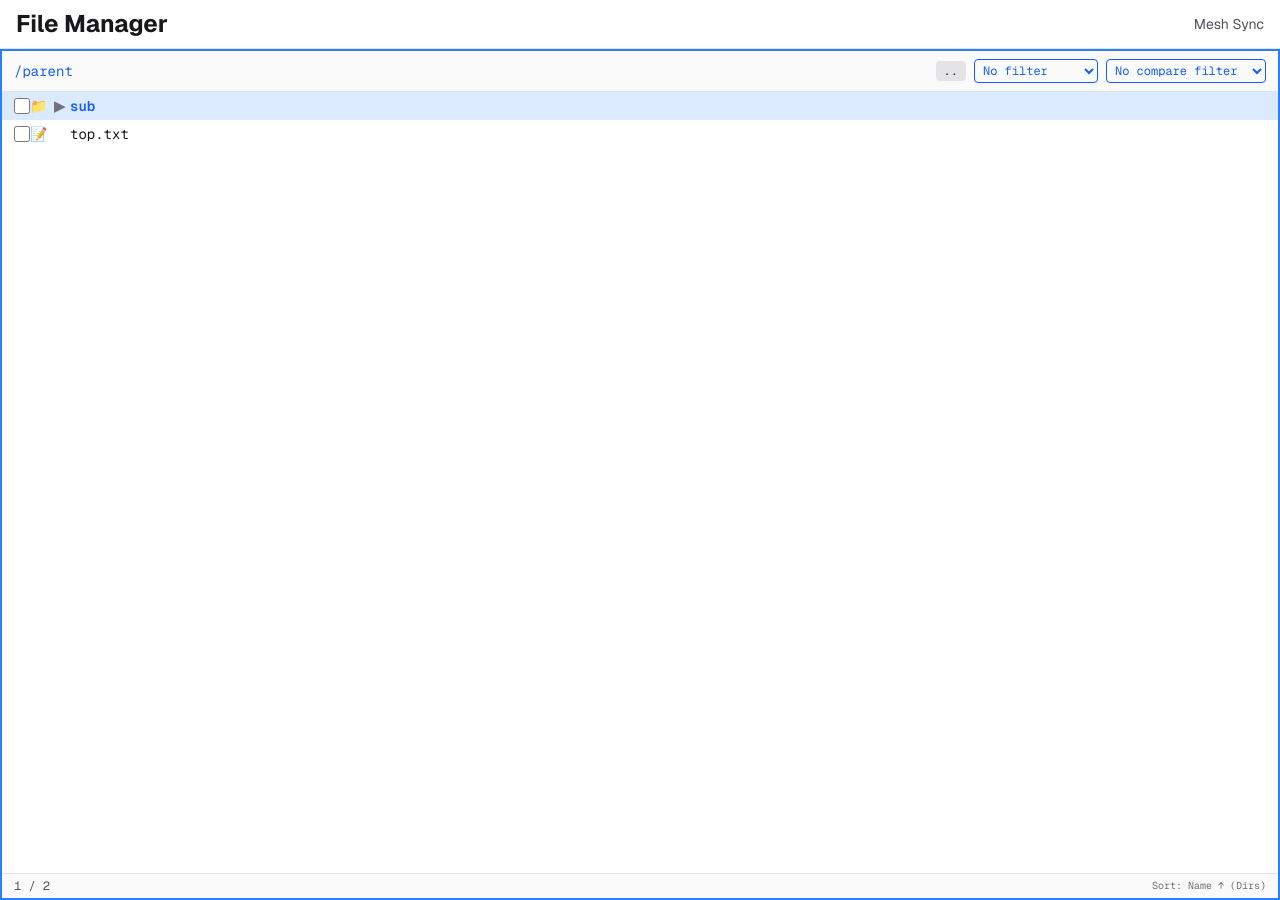
Test: [REQ-DIRECTORY_TREE] WorkspaceView directory tree › handleNavigate re-root resets tree and collapses expanded paths
Press Enter
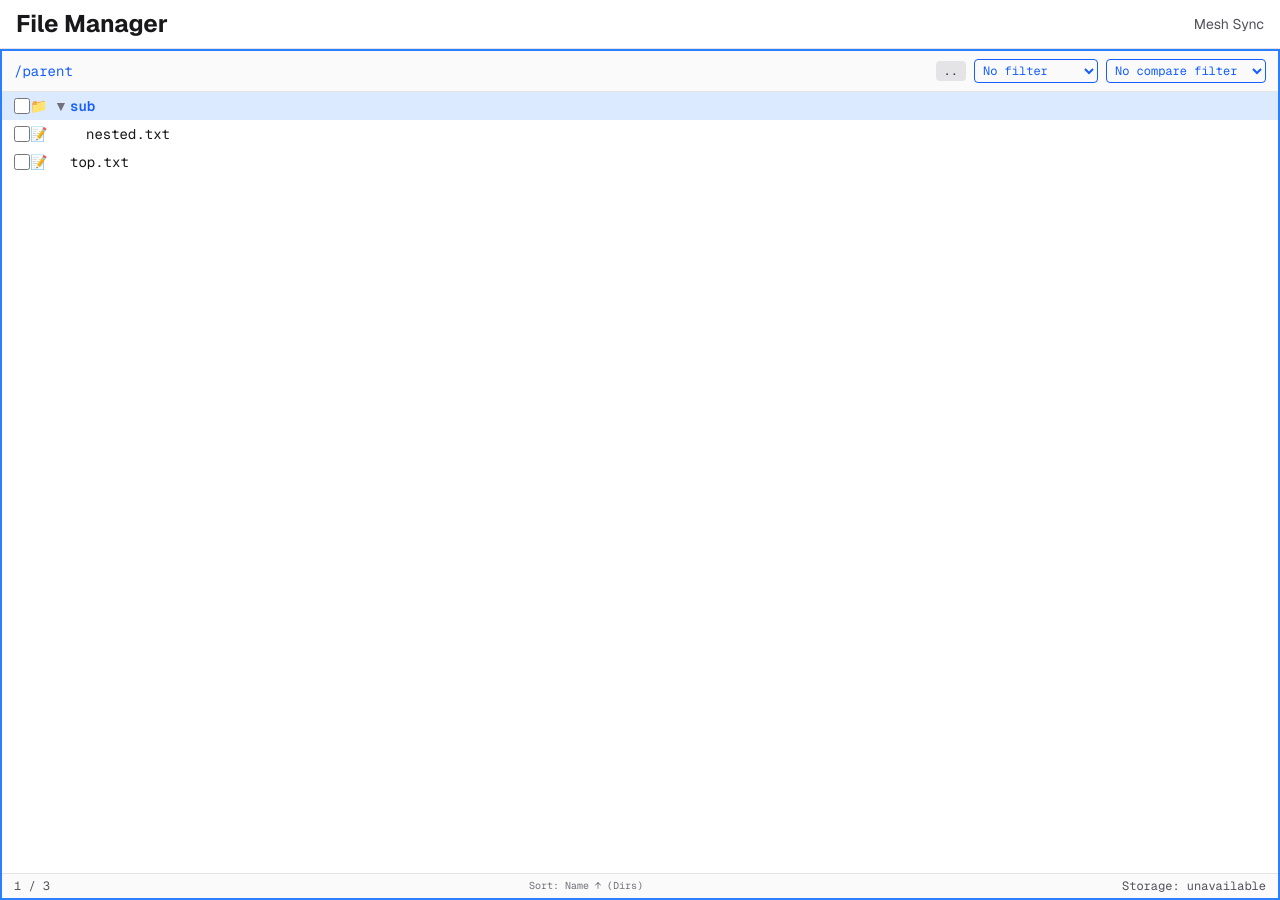
Check: the text "nested.txt" is shown, box [86,124,170,144]
Click the button named "Parent directory".
click(951, 71)  # box [936,61,966,81]
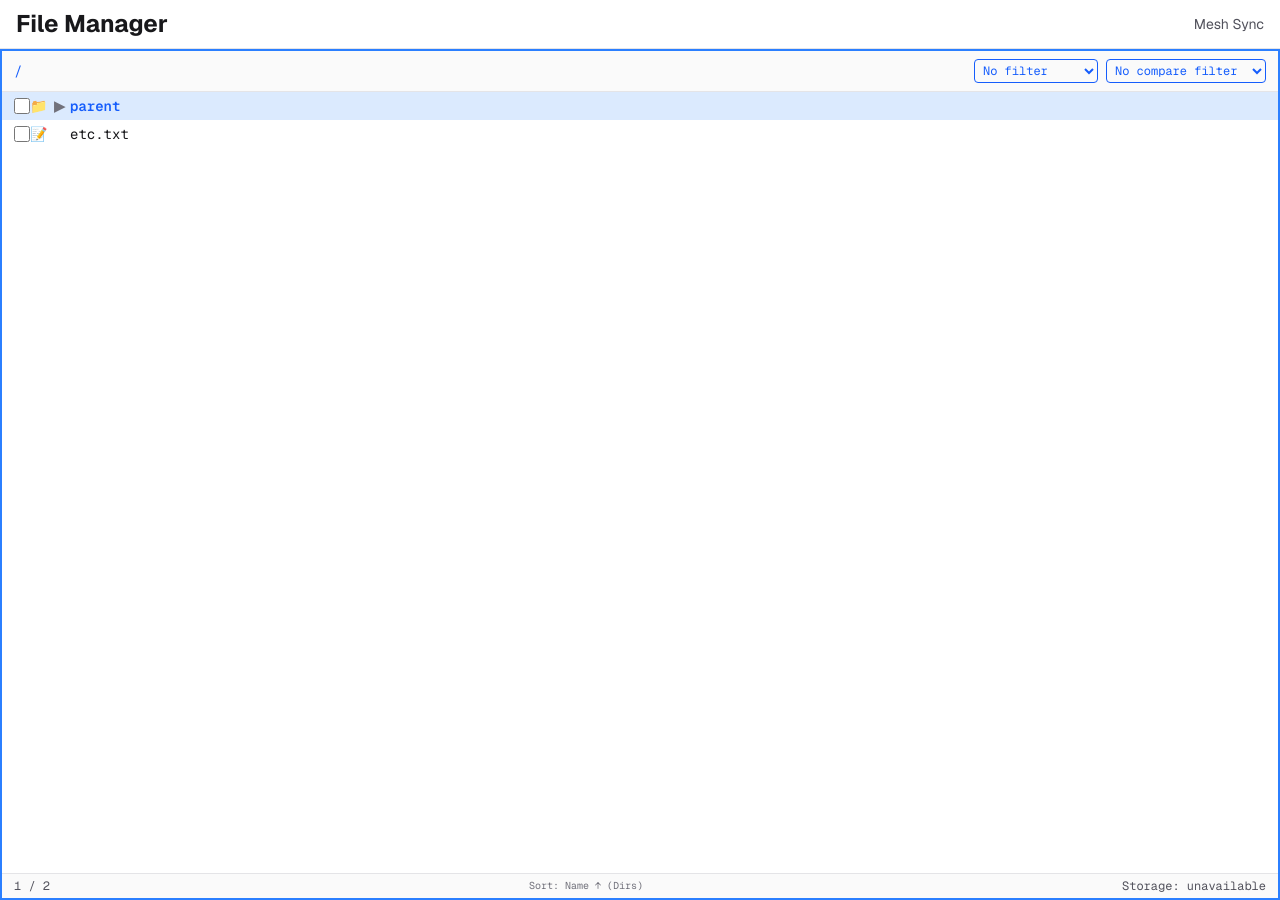
Check: the text "/" is shown, box [14,62,22,80]
Check: the text "nested.txt" is gone
